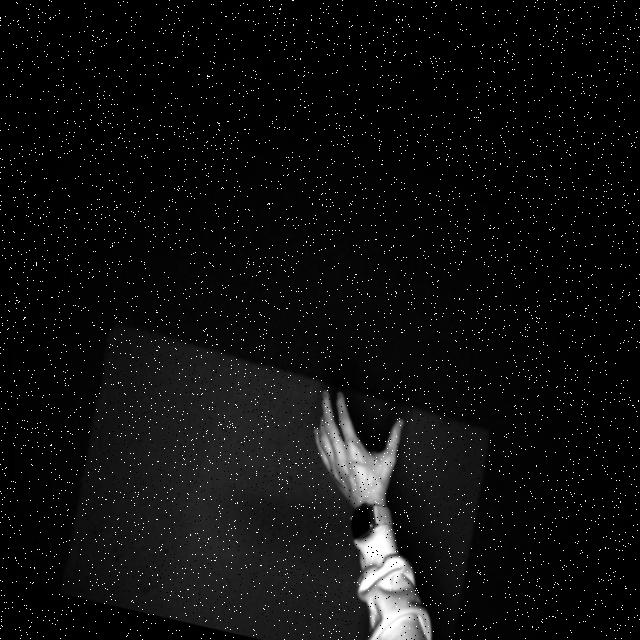hand: (295, 379, 410, 510)
